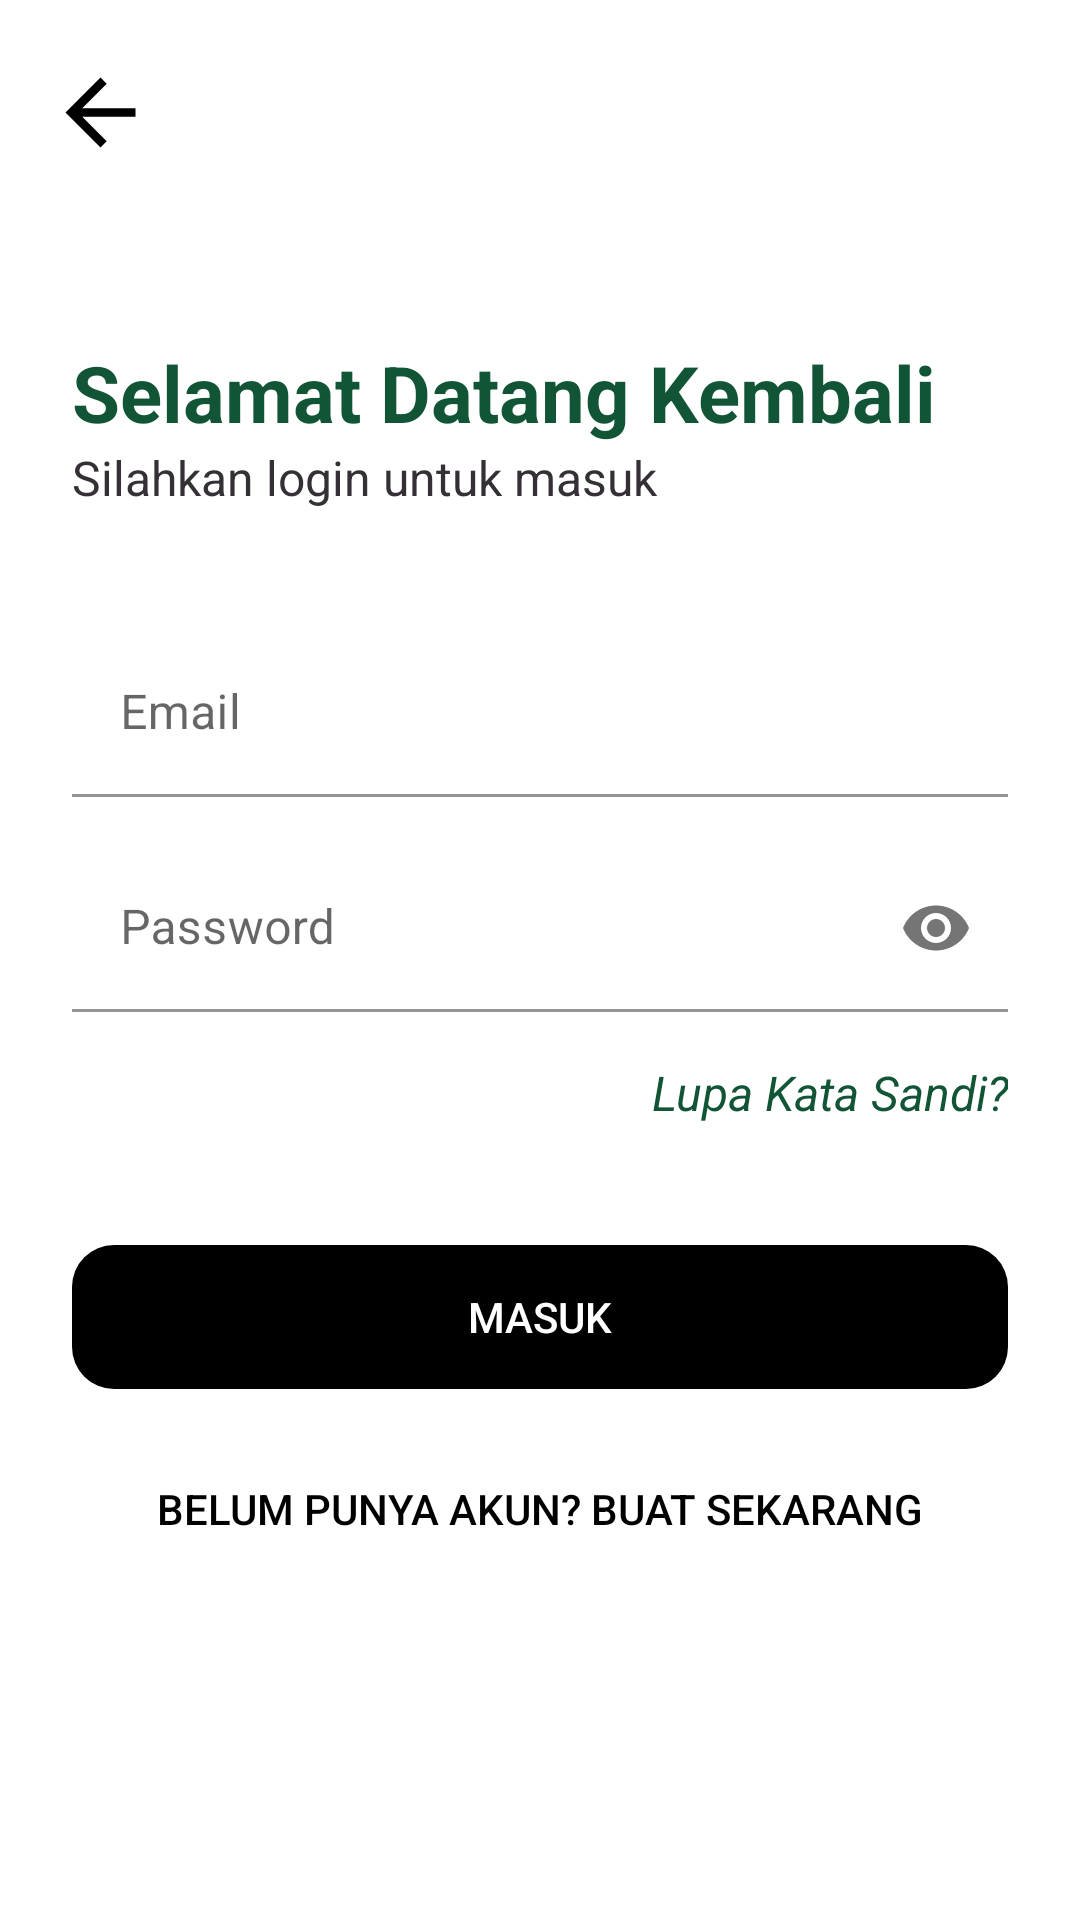

Icons on this 1080x1920 Android screen, each with its box as {"left": x1, "top": y1, "right": x2, "bottom": y2}:
back: {"left": 65, "top": 77, "right": 136, "bottom": 148}
